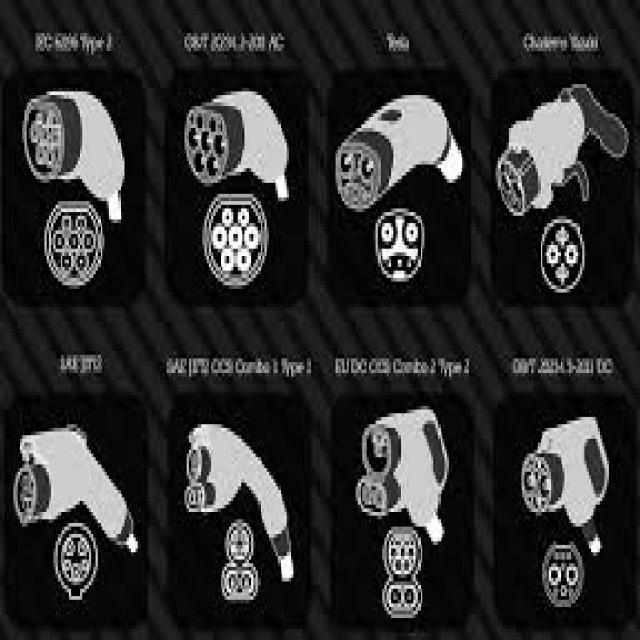Type 2: (189, 182, 302, 300)
